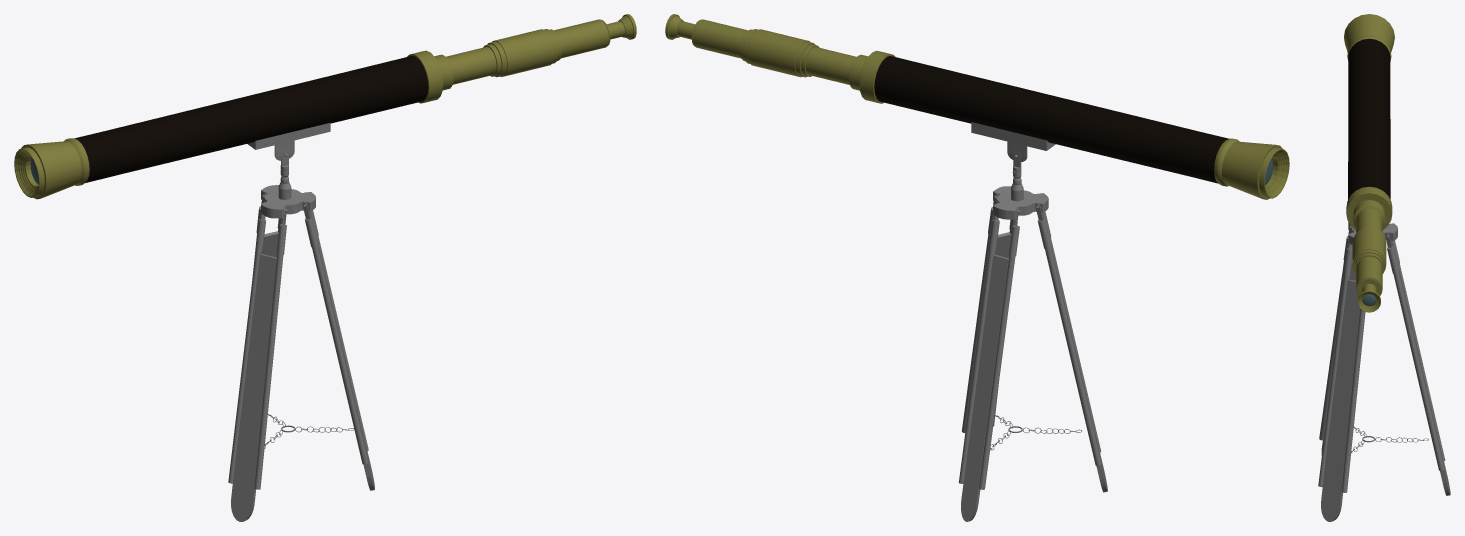
Rendered from Telescope.obj.
3 views of the same model, side by side, from view 1: azimuth 30°, elevation 25°; view 2: azimuth 150°, elevation 25°; view 3: azimuth 270°, elevation 25° (orthographic). The views are drawn at different scales.
Parts seen in each view (by area): view 1: polySurface7, polySurface9 polySurface31, polySurface9 polySurface29, polySurface32 polySurface35, polySurface30 polySurface9, pCylinder2, pCube2; view 2: polySurface7, polySurface11, polySurface30 polySurface9, pCylinder2, pCube2, polySurface32 polySurface37; view 3: polySurface7, polySurface32 polySurface36, polySurface11, polySurface32 polySurface35, polySurface32 polySurface37, polySurface9 polySurface29, pCylinder2.
Part boxes in pixels (left/top/right/bottom): polySurface7: left=14, top=14, right=636, bottom=199; polySurface9 polySurface31: left=231, top=254, right=276, bottom=521; polySurface9 polySurface29: left=254, top=207, right=286, bottom=489; polySurface32 polySurface35: left=302, top=202, right=368, bottom=464; polySurface30 polySurface9: left=228, top=202, right=265, bottom=483; pCylinder2: left=261, top=185, right=315, bottom=218; pCube2: left=247, top=123, right=330, bottom=160; polySurface7: left=665, top=14, right=1289, bottom=199; polySurface11: left=958, top=202, right=1019, bottom=521; polySurface30 polySurface9: left=1035, top=203, right=1101, bottom=465; pCylinder2: left=993, top=186, right=1048, bottom=219; pCube2: left=971, top=122, right=1055, bottom=161; polySurface32 polySurface37: left=962, top=193, right=998, bottom=433; polySurface7: left=1344, top=14, right=1394, bottom=312; polySurface32 polySurface36: left=1321, top=279, right=1360, bottom=521; polySurface11: left=1385, top=232, right=1450, bottom=495; polySurface32 polySurface35: left=1318, top=232, right=1352, bottom=487; polySurface32 polySurface37: left=1341, top=309, right=1365, bottom=492; polySurface9 polySurface29: left=1319, top=225, right=1351, bottom=440; pCylinder2: left=1348, top=222, right=1397, bottom=244.
Bounding box in the file's own units: 9.75 × 6.25 × 2.04.
